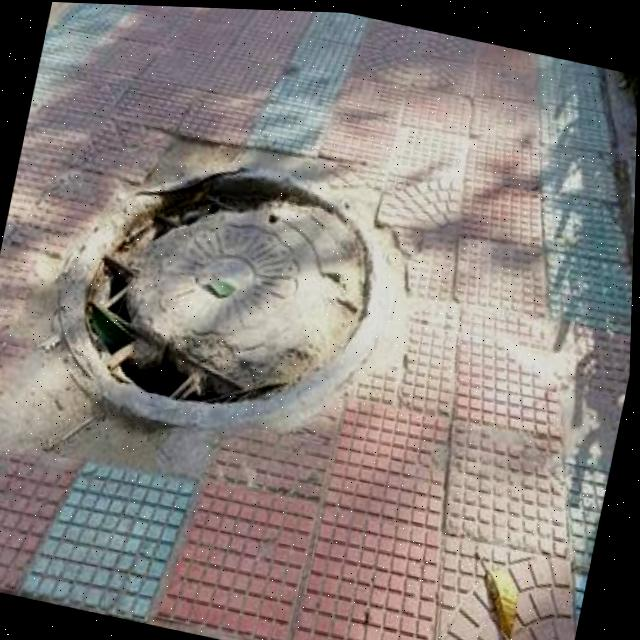manhole: (30, 117, 427, 473)
